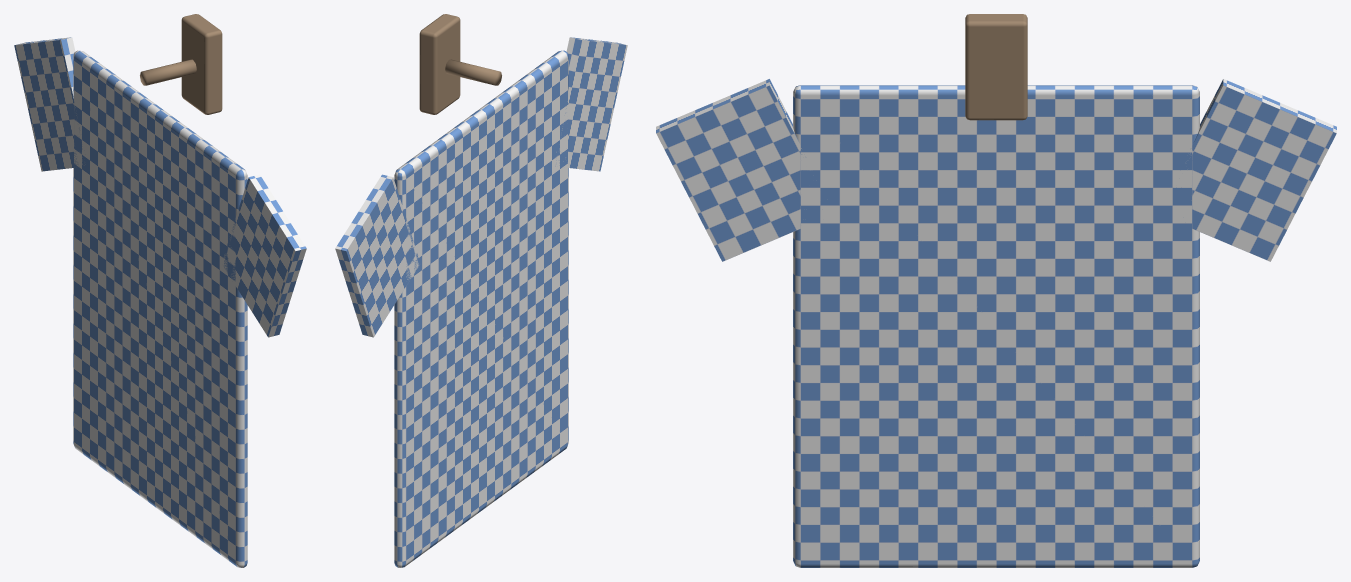
Rendered from escena.casa.delantal_jardin.fbx.
The picture shows the model from 3 angles, left to right: view 1: azimuth 30°, elevation 25°; view 2: azimuth 150°, elevation 25°; view 3: azimuth 270°, elevation 25°; orthographic projection. The views are drawn at different scales.
Parts seen in each view (by area): view 1: Delantal, Manga.001, Manga, Placa del gancho, Gancho; view 2: Delantal, Manga, Manga.001, Placa del gancho, Gancho; view 3: Delantal, Manga.001, Manga, Placa del gancho.
Boxes of the visible parts, box(x1,y1,x2,y2) form: Delantal: box(73, 50, 247, 567); Manga.001: box(222, 174, 306, 337); Manga: box(14, 37, 87, 171); Placa del gancho: box(181, 14, 222, 114); Gancho: box(140, 59, 196, 85); Delantal: box(394, 50, 568, 567); Manga: box(335, 174, 420, 337); Manga.001: box(555, 37, 627, 171); Placa del gancho: box(419, 14, 460, 114); Gancho: box(445, 59, 501, 85); Delantal: box(793, 85, 1199, 567); Manga.001: box(656, 79, 806, 261); Manga: box(1190, 79, 1336, 261); Placa del gancho: box(965, 14, 1027, 120).
Size of the model in its own units: 0.06 by 0.405 by 0.4348.
Materials: 2 (1 with a texture image).
